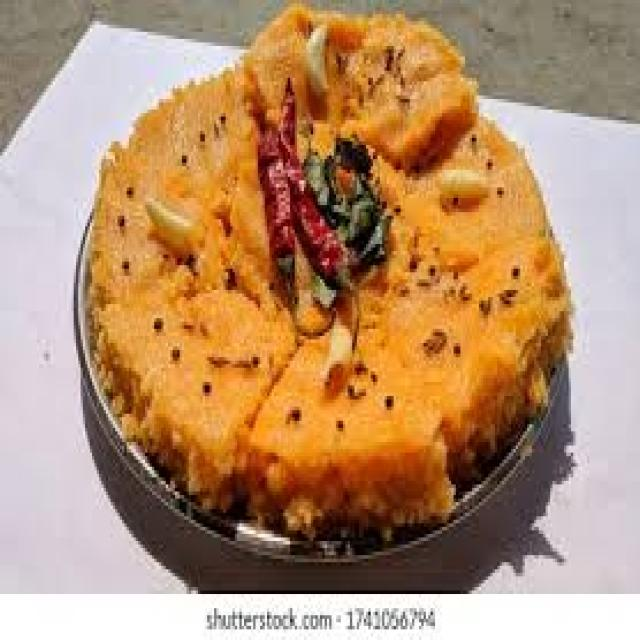DHOKLA: (87, 4, 569, 552)
